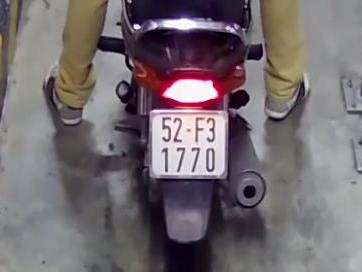num_plate: (150, 109, 229, 180)
